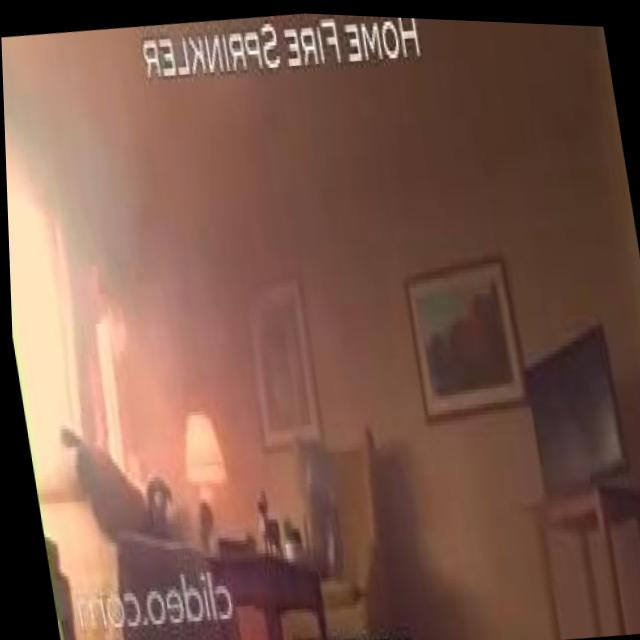fire: (86, 312, 141, 494)
